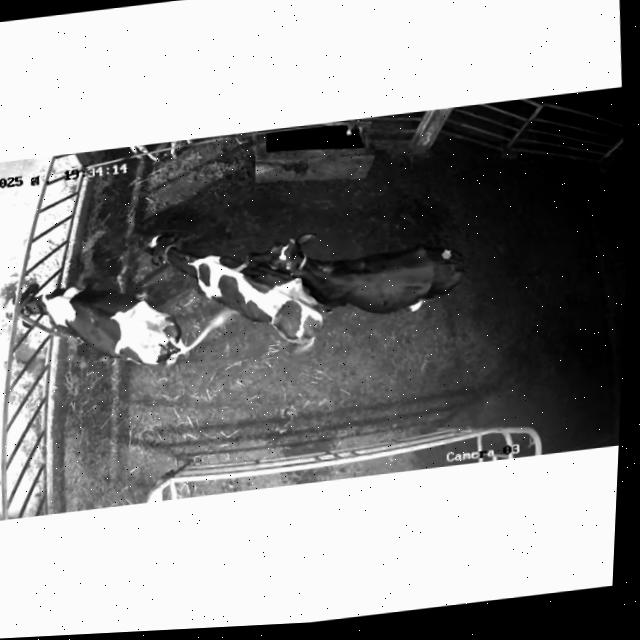stand: (145, 233, 327, 350), (244, 232, 465, 312)
